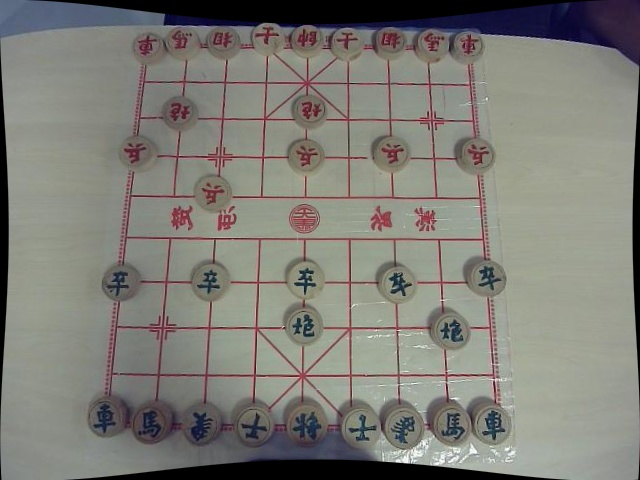Black-Cannon: (428, 312, 471, 350), (282, 309, 327, 345)
Black-Chariot: (475, 408, 513, 442), (88, 399, 123, 433)
Black-Elephant: (185, 407, 222, 447), (389, 410, 421, 449)
Black-General: (288, 408, 325, 445)
Black-Guard: (232, 402, 277, 445), (344, 408, 381, 447)
Black-Horse: (131, 403, 169, 442), (440, 405, 466, 446)
Black-Soldier: (377, 264, 418, 304), (467, 258, 508, 298), (285, 261, 328, 299), (100, 264, 142, 301), (192, 263, 230, 301)
Red-Cannon: (291, 91, 329, 128), (162, 93, 199, 128)
Red-Chariot: (132, 29, 161, 63), (454, 29, 484, 61)
Red-Elephant: (207, 25, 243, 59), (374, 25, 407, 58)
Red-General: (290, 24, 327, 55)
Red-Guard: (253, 20, 284, 54), (333, 28, 365, 57)
Red-Horse: (416, 24, 451, 63), (166, 24, 199, 55)
Red-Soldier: (456, 137, 497, 175), (285, 138, 326, 175), (373, 135, 412, 172), (116, 135, 156, 171), (192, 178, 232, 209)
